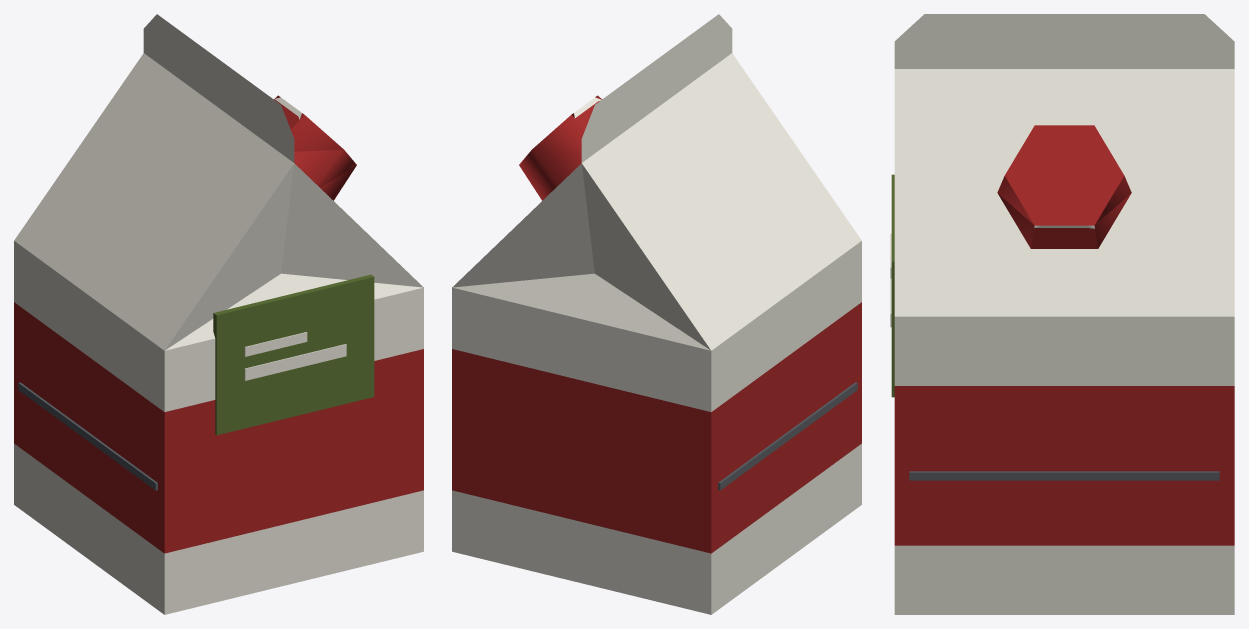
Rendered from carton-small.glb.
The picture shows the model from 3 angles, left to right: view 1: azimuth 30°, elevation 25°; view 2: azimuth 150°, elevation 25°; view 3: azimuth 270°, elevation 25°; orthographic projection. The views are drawn at different scales.
Parts seen in each view (by area): view 1: carton-small; view 2: carton-small; view 3: carton-small.
Boxes of the visible parts, x1,y1,x2,y2 form: carton-small: (14,14,423,614); carton-small: (452,14,861,614); carton-small: (890,14,1234,614).
Bounding box in the file's own units: 0.23 × 0.3905 × 0.23.
